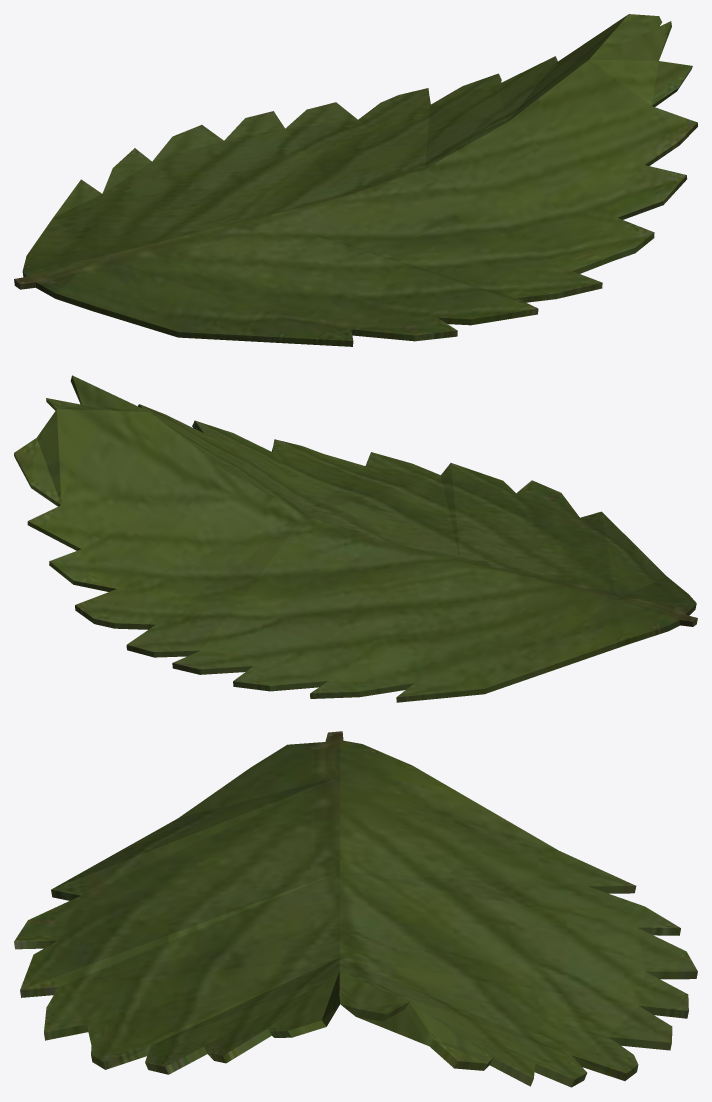
Rendered from leaf2_g1.dae.
3 renders of one model, top to bottom at view 1: azimuth 30°, elevation 25°; view 2: azimuth 150°, elevation 25°; view 3: azimuth 270°, elevation 25°, orthographic. The views are drawn at different scales.
Parts seen in each view (by area): view 1: Plane; view 2: Plane; view 3: Plane.
Part boxes in pixels (box(x1,y1,x2,y2)): Plane: box(14, 14, 697, 346); Plane: box(14, 375, 697, 702); Plane: box(14, 731, 697, 1087).
Bounding box in the file's own units: 0.1377 × 0.1018 × 0.0278.
1 material, 1 textured.
